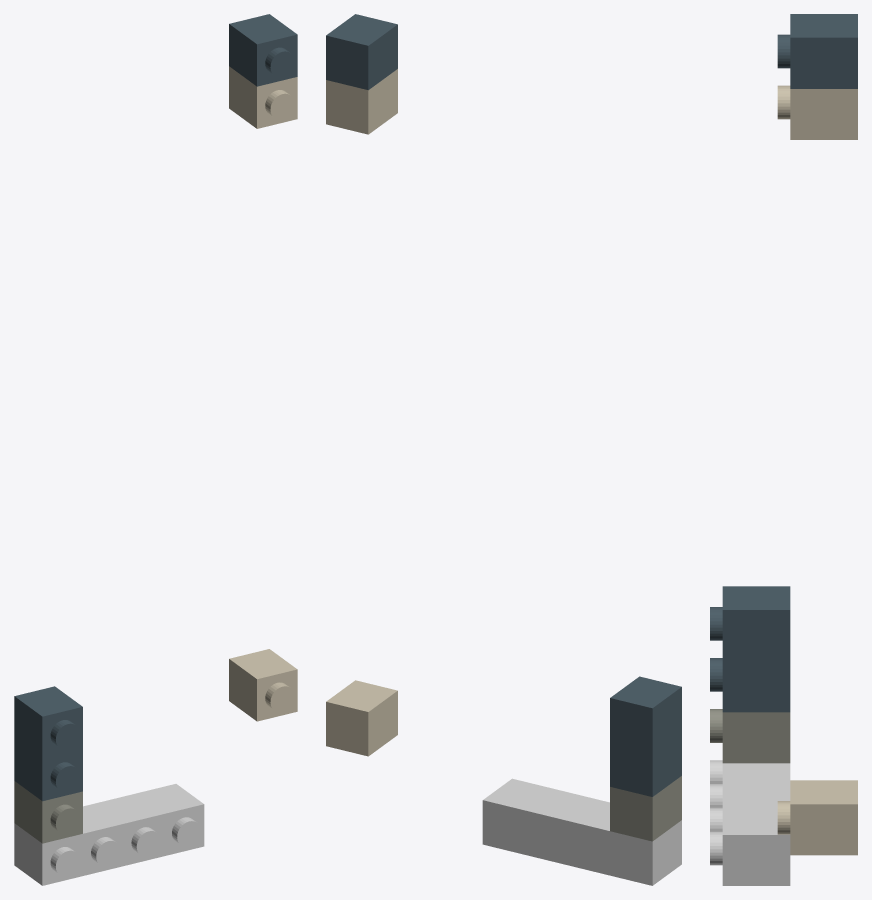
The model's file is current.glb.
3 views of the same model, side by side, from view 1: azimuth 30°, elevation 25°; view 2: azimuth 150°, elevation 25°; view 3: azimuth 270°, elevation 25° (orthographic). The views are drawn at different scales.
Parts seen in each view (by area): view 1: world; view 2: world; view 3: world.
Part boxes in pixels (left/top/right/bottom): world: left=14, top=14, right=297, bottom=885; world: left=326, top=14, right=681, bottom=885; world: left=710, top=14, right=857, bottom=885.
Bounding box in the file's own units: 56 × 144 × 21.
